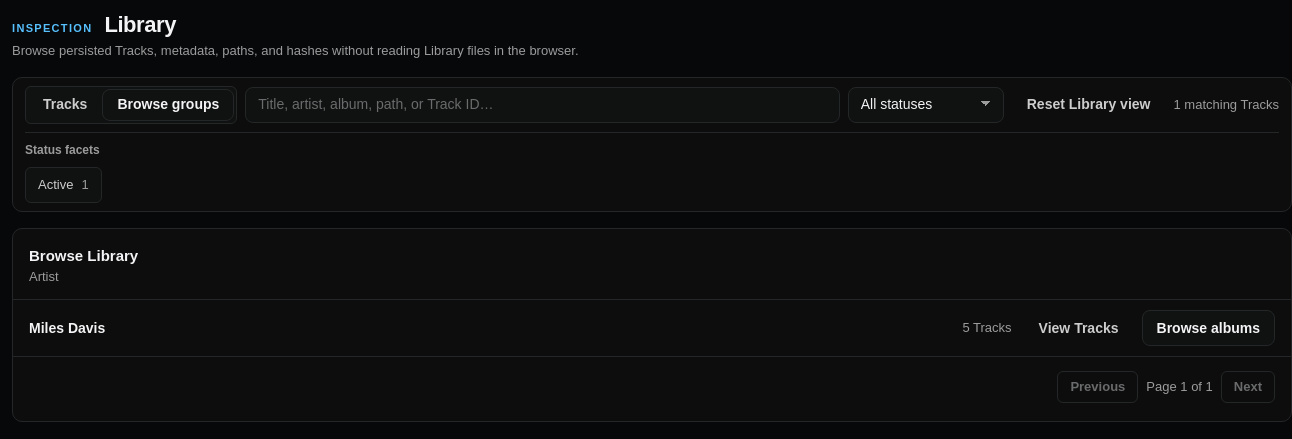
Scenario: Library inspection › drills from an opaque artist key into albums and keeps the hierarchy in the URL
Click the button "Browse albums" at (1208, 328), box [1142,310,1275,346]
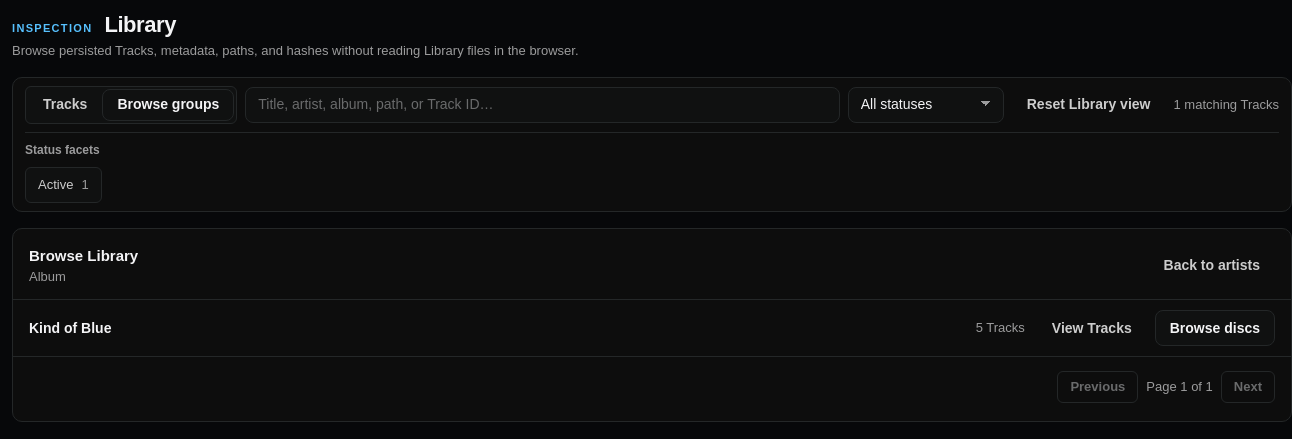
Expected: the text "Kind of Blue" is shown, [29,317,111,338]
